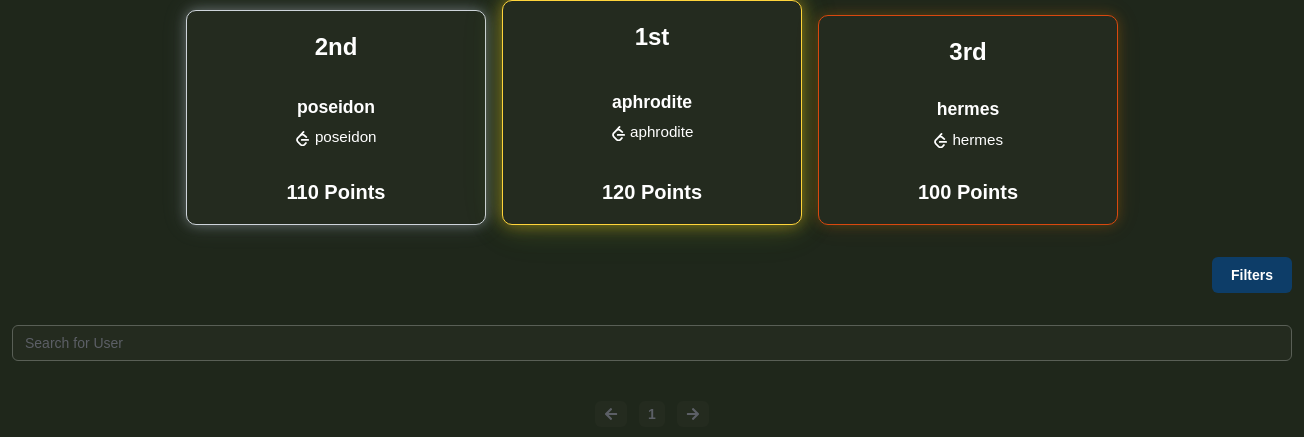
Test: Leaderboard API Succeeded › should handle case-insensitive search
The width and height of the screenshot is (1304, 437).
Type "APHRODITE" into the field with placeholder "Search for User" at point(652, 343), box [12, 325, 1292, 361]
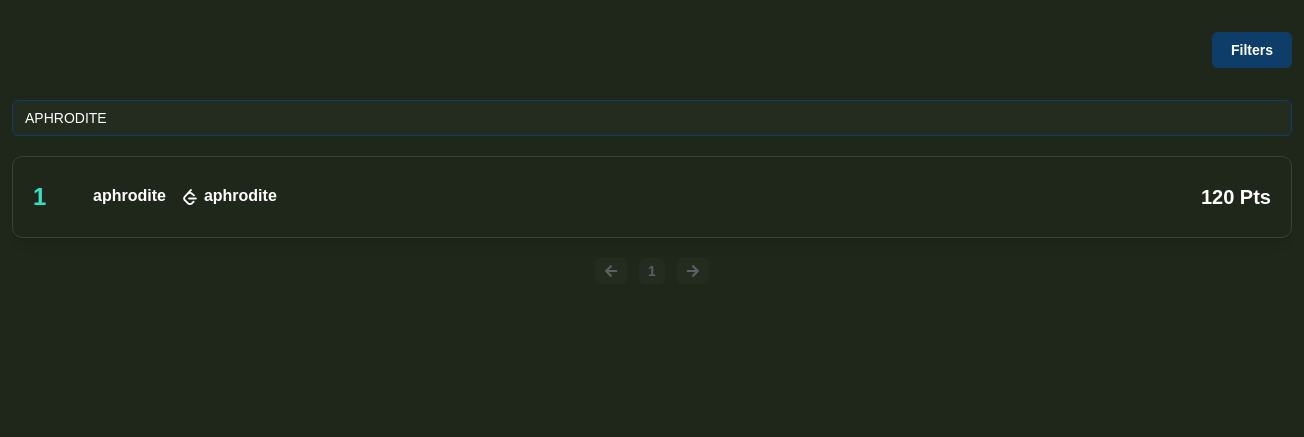
Expected: the 1st text "aphrodite" is shown, [93, 184, 166, 209]
Expected: no links "poseidon" are shown
